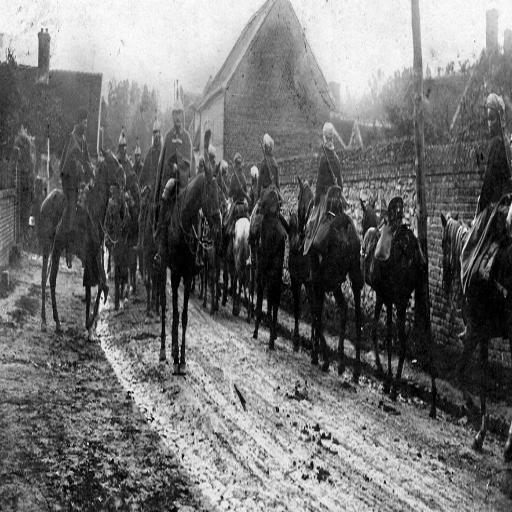horse: (38, 148, 436, 412), (440, 209, 512, 463), (360, 189, 436, 422), (296, 174, 362, 386)
